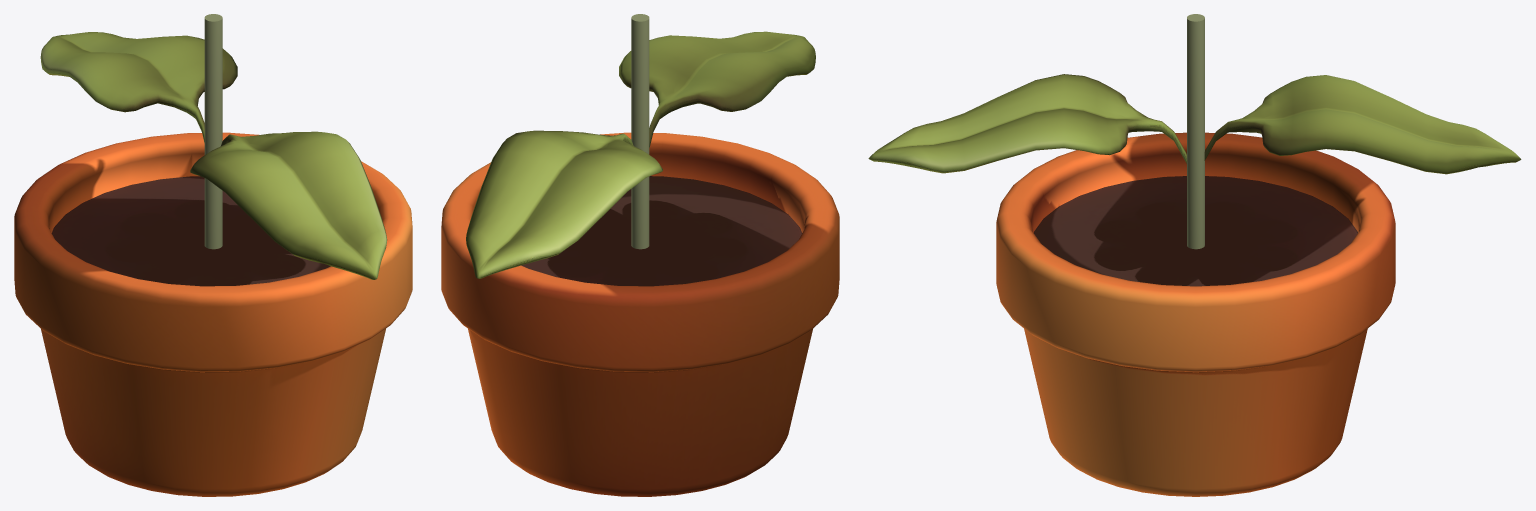
File: sunflower_day-test2.glb
The picture shows the model from 3 angles, left to right: view 1: azimuth 30°, elevation 25°; view 2: azimuth 150°, elevation 25°; view 3: azimuth 270°, elevation 25°; orthographic projection.
Visible parts, largest first — view 1: Pot.001, Leaf.001, Leaf, Cylinder; view 2: Pot.001, Leaf, Leaf.001, Cylinder; view 3: Pot.001, Leaf.001, Leaf, Cylinder.
Part boxes in pixels (x1,y1,x2,y2): Pot.001: (14,132,412,496); Leaf.001: (190,131,387,279); Leaf: (40,32,237,142); Cylinder: (204,14,222,249); Pot.001: (441,132,839,496); Leaf: (466,130,662,278); Leaf.001: (619,31,815,147); Cylinder: (631,14,649,249); Pot.001: (996,132,1395,496); Leaf.001: (868,74,1187,173); Leaf: (1204,75,1521,174); Cylinder: (1187,14,1204,249).
Bounding box in the file's own units: 0.6632 × 0.7754 × 1.08.
Materials: 4 (3 with a texture image).
